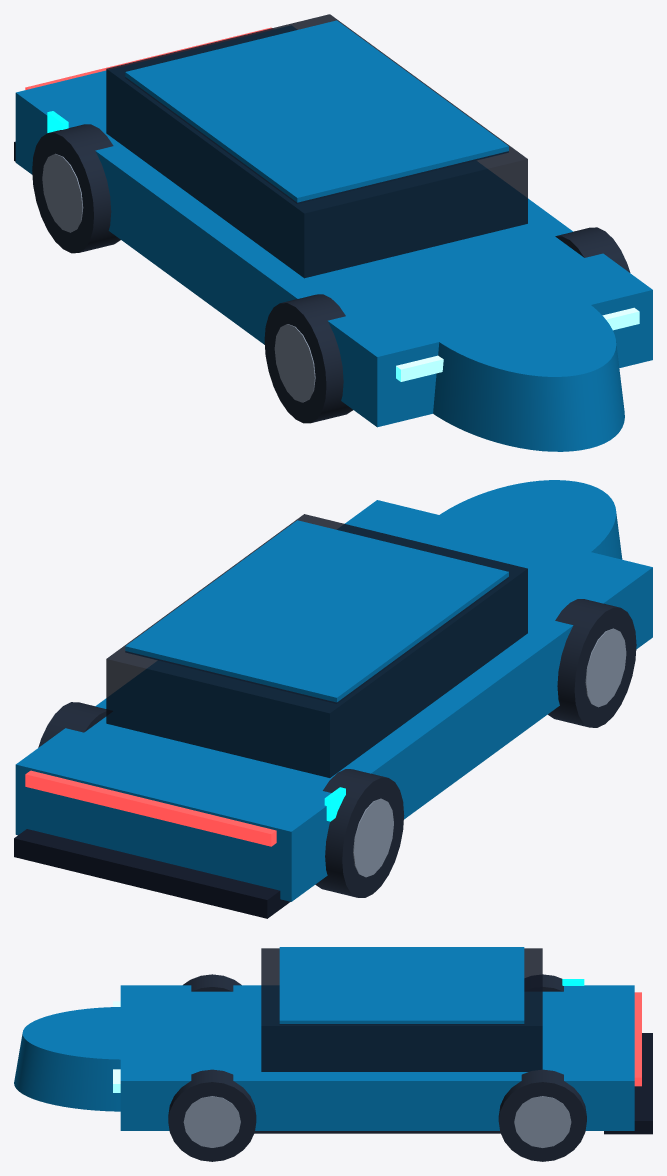
Rendered from ev-car.glb.
3 renders of one model, top to bottom at view 1: azimuth 30°, elevation 25°; view 2: azimuth 150°, elevation 25°; view 3: azimuth 270°, elevation 25°, orthographic. The views are drawn at different scales.
Parts seen in each view (by area): view 1: Chassis_Body, Roof_Panel, Cabin_Glass, Chassis_Nose, Wheel_Front_Left, Wheel_Rear_Left, Wheel_Front_Right, Headlight_Bar; view 2: Chassis_Body, Roof_Panel, Cabin_Glass, Chassis_Nose, Aerodynamic_Diffuser, Wheel_Front_Left, Wheel_Rear_Left, Taillight_Bar, Wheel_Rear_Right; view 3: Chassis_Body, Roof_Panel, Cabin_Glass, Chassis_Nose, Wheel_Rear_Right, Wheel_Front_Right, Aerodynamic_Diffuser, Taillight_Bar, Wheel_Front_Left, Battery_Pack, Wheel_Rear_Left.
Part boxes in pixels (box(x1,y1,x2,y2)): Chassis_Body: box(15, 44, 652, 427); Roof_Panel: box(125, 20, 508, 203); Cabin_Glass: box(106, 14, 527, 278); Chassis_Nose: box(433, 304, 624, 451); Wheel_Front_Left: box(264, 294, 352, 423); Wheel_Rear_Left: box(32, 124, 120, 253); Wheel_Front_Right: box(555, 227, 630, 272); Headlight_Bar: box(396, 307, 639, 381); Chassis_Body: box(15, 500, 652, 901); Roof_Panel: box(125, 520, 508, 702); Cabin_Glass: box(106, 514, 527, 777); Chassis_Nose: box(436, 480, 622, 559); Aerodynamic_Diffuser: box(14, 829, 290, 918); Wheel_Front_Left: box(548, 599, 636, 727); Wheel_Rear_Left: box(315, 769, 404, 897); Taillight_Bar: box(25, 770, 276, 846); Wheel_Rear_Right: box(38, 702, 109, 747); Chassis_Body: box(120, 985, 634, 1130); Roof_Panel: box(279, 947, 524, 1024); Cabin_Glass: box(261, 948, 542, 1071); Chassis_Nose: box(14, 1006, 126, 1111); Wheel_Rear_Right: box(498, 1069, 586, 1161); Wheel_Front_Right: box(168, 1069, 256, 1161); Aerodynamic_Diffuser: box(604, 1033, 652, 1134); Taillight_Bar: box(634, 992, 641, 1086); Wheel_Front_Left: box(183, 974, 241, 991); Battery_Pack: box(254, 1131, 500, 1133); Wheel_Rear_Left: box(526, 974, 563, 991).
Size of the model in its own units: 2.09 by 1.12 by 5.22.
